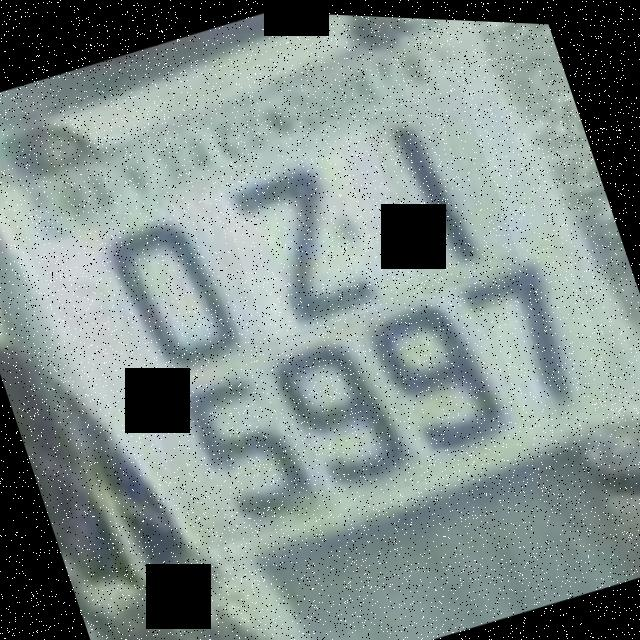5: (138, 328, 334, 556)
7: (430, 230, 622, 453)
9: (234, 291, 428, 521), (344, 258, 534, 487)
I: (364, 81, 522, 294)
O: (80, 171, 267, 392)
Z: (216, 143, 394, 343)
